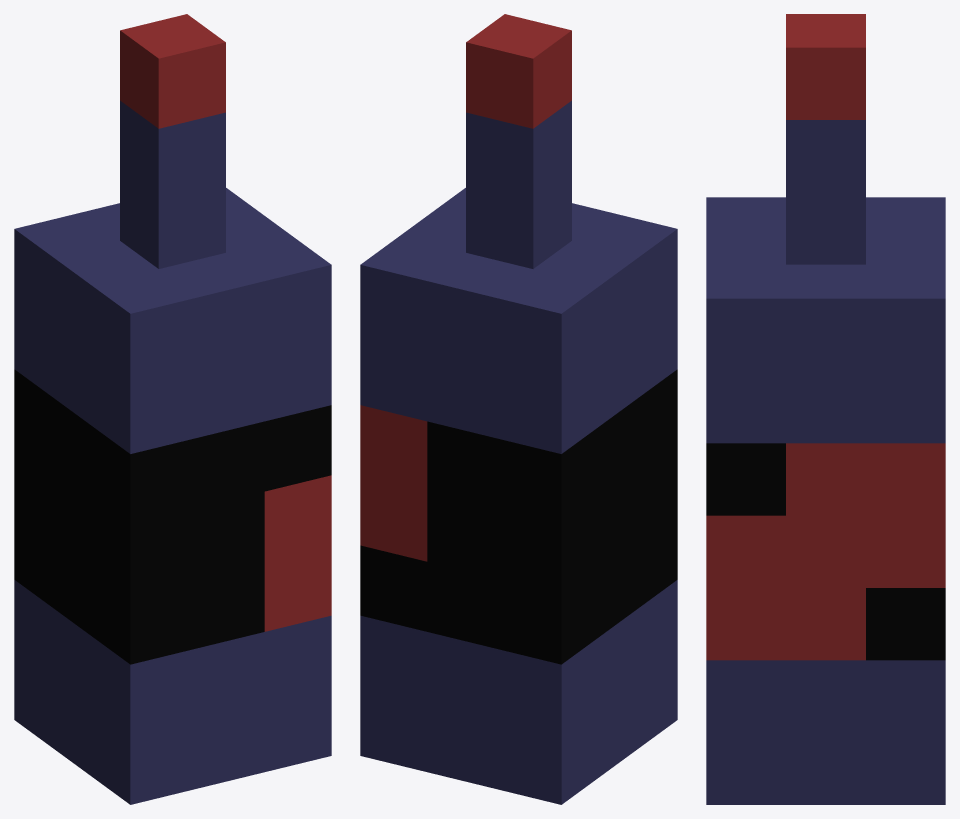
File: bottle_1.gltf
3 renders of one model, left to right at view 1: azimuth 30°, elevation 25°; view 2: azimuth 150°, elevation 25°; view 3: azimuth 270°, elevation 25°, orthographic. The views are drawn at different scales.
Visible parts, largest first — view 1: Layer.1; view 2: Layer.1; view 3: Layer.1.
Part boxes in pixels (x1,y1,x2,y2): Layer.1: (14, 14, 331, 804); Layer.1: (360, 14, 677, 804); Layer.1: (706, 14, 945, 804).
Bounding box in the file's own units: 3 × 10 × 3.
